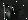person: (2, 6, 10, 20), (9, 6, 14, 15)
